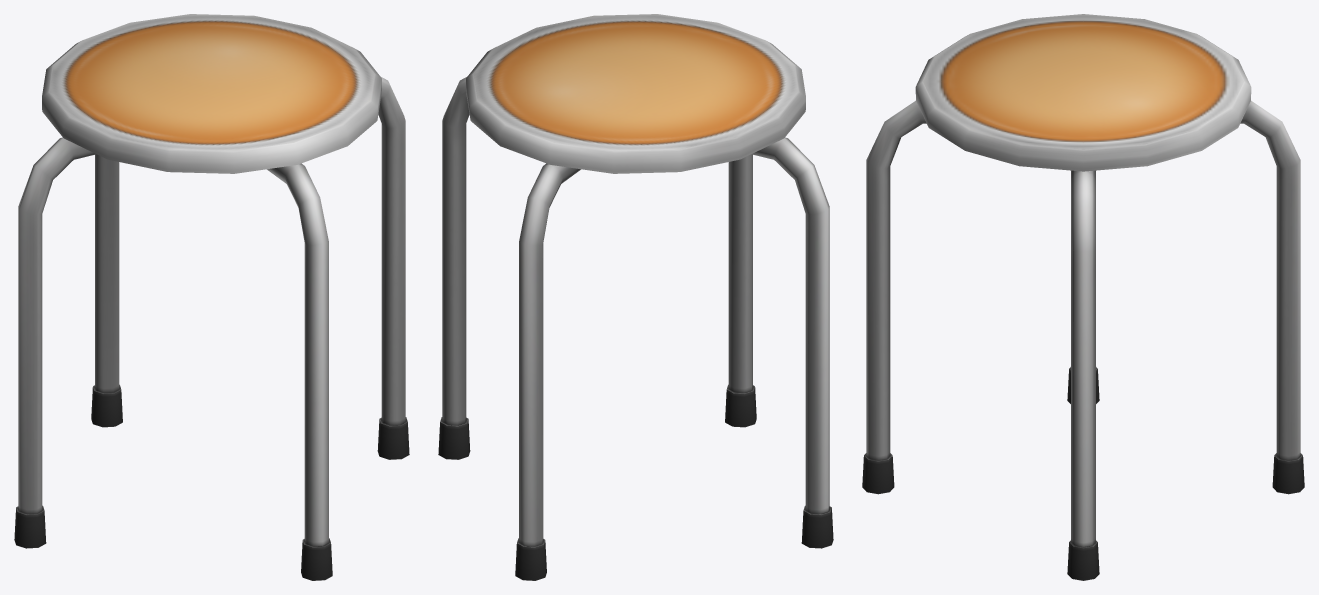
Rendered from KR_Chair_01_02.fbx.
The picture shows the model from 3 angles, left to right: view 1: azimuth 30°, elevation 25°; view 2: azimuth 150°, elevation 25°; view 3: azimuth 270°, elevation 25°; orthographic projection. The views are drawn at different scales.
Visible parts, largest first — view 1: kr_chair_01_02; view 2: kr_chair_01_02; view 3: kr_chair_01_02.
Part boxes in pixels (x1,y1,x2,y2): kr_chair_01_02: (14,14,409,580); kr_chair_01_02: (438,14,833,580); kr_chair_01_02: (862,14,1304,580).
Size of the model in its own units: 43.5 by 44 by 43.5.
